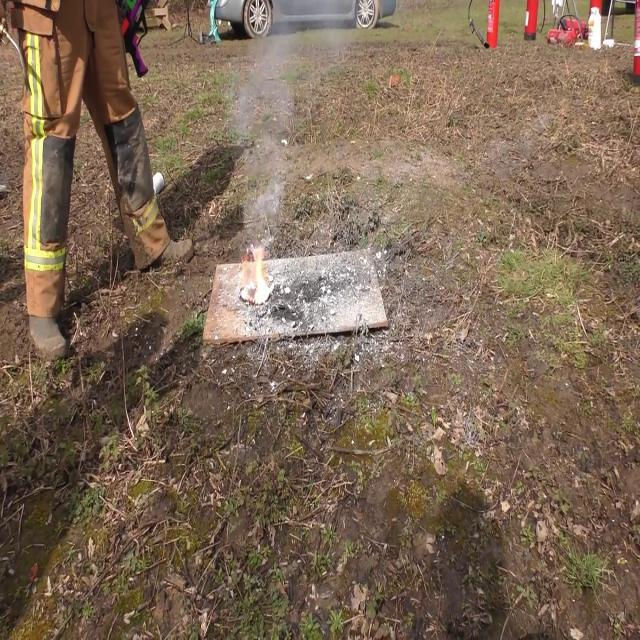Fire: (243, 242, 273, 306)
Smoke: (227, 19, 300, 233)
